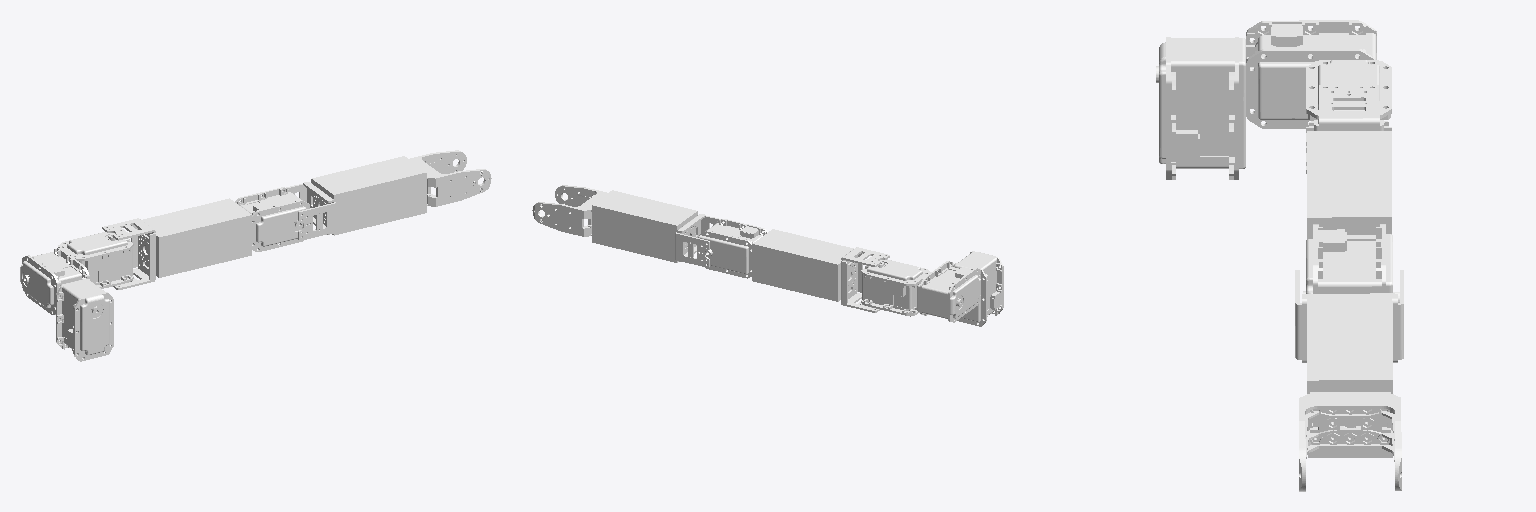
URDF robot description (manipulator):
<?xml version="1.0" encoding="utf-8"?>
<!-- =================================================================================== -->
<!-- |    This document was autogenerated by xacro from manipulator4_meshed_test.xacro | -->
<!-- |    EDITING THIS FILE BY HAND IS NOT RECOMMENDED                                 | -->
<!-- =================================================================================== -->
<robot name="manipulator">
  <!--0.5624 height to start-->
  <material name="white">
    <color rgba="1 1 1 1"/>
  </material>
  <!-- MACROS -->
  <!-- LINKS -->
  <!-- the trans parameter present here is to toggle distance of current object with respect to previous adjacent object i.e. its parent-->
  <!-- <link name="base_link">
    <xacro:LinkInertial trans="0 0 0.5624" rpy="0 0 0" />
    <xacro:LinkVisual trans="0 0 0.5624" rpy="0 0 0" />
    <xacro:LinkCollision trans="0 0 0.5624" rpy="0 0 0" />
  </link> -->
  <link name="shoulder_pitch_motor">
    <inertial>
      <origin rpy="0 0 0 " xyz="0 0 0"/>
      <mass value="0.140"/>
      <inertia ixx="0.000050799110" ixy="0.0" ixz="0.0" iyy="0.00002857215" iyz="0.00000051457" izz="0.000043394"/>
    </inertial>
    <visual>
      <origin rpy="0 0 0 " xyz="0 0 0"/>
      <geometry>
        <mesh filename="package://arm_imitation/meshes/mx-64.stl" scale="1 1 1"/>
      </geometry>
      <material name="white"/>
    </visual>
    <collision>
      <origin rpy="0 0 0" xyz="0 0 0"/>
      <geometry>
        <mesh filename="package://arm_imitation/meshes/mx-64.stl" scale="1 1 1"/>
      </geometry>
    </collision>
  </link>
  <link name="shoulder_roll_motor">
    <inertial>
      <origin rpy="0 0 0 " xyz="0 0 0.0481"/>
      <mass value="0.140"/>
      <inertia ixx="0.000050799110" ixy="0.0" ixz="0.0" iyy="0.00002857215" iyz="0.00000051457" izz="0.000043394"/>
    </inertial>
    <visual>
      <origin rpy="0 0 0 " xyz="0 0 0.0481"/>
      <geometry>
        <mesh filename="package://arm_imitation/meshes/mx-64.stl" scale="1 1 1"/>
      </geometry>
      <material name="white"/>
    </visual>
    <collision>
      <origin rpy="0 0 0" xyz="0 0 0.0481"/>
      <geometry>
        <mesh filename="package://arm_imitation/meshes/mx-64.stl" scale="1 1 1"/>
      </geometry>
    </collision>
  </link>
  <link name="shoulder_yaw_motor">
    <inertial>
      <origin rpy="0 0 0" xyz="0 0 0"/>
      <mass value="0.140"/>
      <inertia ixx="0.000050799110" ixy="0.0" ixz="0.0" iyy="0.00002857215" iyz="0.00000051457" izz="0.000043394"/>
    </inertial>
    <visual>
      <origin rpy="0.0 0.0 0" xyz="0 0 0"/>
      <geometry>
        <mesh filename="package://arm_imitation/meshes/mx-64.stl" scale="1 1 1"/>
      </geometry>
      <material name="white"/>
    </visual>
    <collision>
      <origin rpy="0 0 0" xyz="0 0 0"/>
      <geometry>
        <mesh filename="package://arm_imitation/meshes/mx-64.stl" scale="1 1 1"/>
      </geometry>
    </collision>
  </link>
  <link name="link_1">
    <inertial>
      <origin rpy="0 0 0" xyz="0 0 0"/>
      <mass value="0.265"/>
      <inertia ixx="0.000050799110" ixy="0.0" ixz="0.0" iyy="0.00002857215" iyz="0.00000051457" izz="0.000043394"/>
    </inertial>
    <visual>
      <origin rpy="0.0 0.0 0" xyz="0 0 0"/>
      <geometry>
        <mesh filename="package://arm_imitation/meshes/link1.stl" scale="1 1 1"/>
      </geometry>
      <material name="white"/>
    </visual>
    <collision>
      <origin rpy="0 0 0" xyz="0 0 0"/>
      <geometry>
        <mesh filename="package://arm_imitation/meshes/link1.stl" scale="1 1 1"/>
      </geometry>
    </collision>
  </link>
  <link name="link_2">
    <inertial>
      <origin rpy="0 0 0" xyz="0 0 0"/>
      <mass value="0.265"/>
      <inertia ixx="0.000050799110" ixy="0.0" ixz="0.0" iyy="0.00002857215" iyz="0.00000051457" izz="0.000043394"/>
    </inertial>
    <visual>
      <origin rpy="0.0 0.0 0" xyz="0 0 0"/>
      <geometry>
        <mesh filename="package://arm_imitation/meshes/link2.stl" scale="1 1 1"/>
      </geometry>
      <material name="white"/>
    </visual>
    <collision>
      <origin rpy="0 0 0" xyz="0 0 0"/>
      <geometry>
        <mesh filename="package://arm_imitation/meshes/link2.stl" scale="1 1 1"/>
      </geometry>
    </collision>
  </link>
  <joint name="shoulder_pitch" type="revolute">
    <origin rpy="-1.57 -1.57 0" xyz="0 0.0205 0"/>
    <parent link="shoulder_pitch_motor"/>
    <child link="shoulder_roll_motor"/>
    <axis xyz="0 0 1"/>
    <limit effort="30" lower="-3.14" upper="3.14" velocity="1.0"/>
  </joint>
  <joint name="shoulder_roll" type="revolute">
    <origin rpy="1.57 1.57 3.14" xyz="0 0.0686 0.0481"/>
    <parent link="shoulder_roll_motor"/>
    <child link="shoulder_yaw_motor"/>
    <axis xyz="0 0 -1"/>
    <limit effort="30" lower="-3.14" upper="3.14" velocity="1.0"/>
  </joint>
  <joint name="shoulder_yaw" type="revolute">
    <origin rpy="1.57 3.14 -1.57" xyz="0 0 0"/>
    <parent link="shoulder_yaw_motor"/>
    <child link="link_1"/>
    <axis xyz="-1 0 0"/>
    <limit effort="30" lower="-1.57" upper="1.57" velocity="1.0"/>
  </joint>
  <joint name="elbow_pitch" type="revolute">
    <origin rpy="0 0 0" xyz="0 -0.1801 0"/>
    <parent link="link_1"/>
    <child link="link_2"/>
    <axis xyz="0 0 1"/>
    <limit effort="30" lower="-1.57" upper="1.57" velocity="1.0"/>
  </joint>
  <!-- <xacro:RevJoint id="shoulder_yaw" trans="0 ${MXLengthAxisLong} 0" rpy="-1.57 1.57 1.57" parent="shoulder_pitch_motor" child="link_1" axis="-1 0 0" l="-1.57" u="1.57" v="1.0"/> -->
  <!-- <xacro:RevJoint id="elbow_pitch" trans="0 -${MXBracketLength + LinkLength + MXLengthAxisLong} 0" rpy="0 0 0" parent="link_1" child="link_2" axis="0 0 1" l="-1.57" u="1.57" v="1.0"/> -->
  <!-- axis="1 0 0" l="-1.57" u="1.57" v="1.0" -->
  <!-- <xacro:FxdJoint id="biceps_start" trans="0 0 ${MXBracketLength}" rpy="0 0 3.14" parent="shoulder_bracket" child="biscep"/>
  <xacro:FxdJoint id="biceps_end" trans="0 0 ${LinkLength}" rpy="1.57 0 1.57" parent="biscep" child="elbow_motor"/>
  <xacro:RevJoint id="elbow_pitch" trans="0 ${MXLengthAxisLong} 0" rpy="0 1.57 1.57" parent="elbow_motor" child="elbow_bracket" axis="1 0 0" l="-1.57" u="1.57" v="1.0"/>
  <xacro:FxdJoint id="forearm_start" trans="0 0 ${MXBracketLength}" rpy="0 0 3.14" parent="elbow_bracket" child="forearm"/>
  <xacro:FxdJoint id="forearm_end" trans="0 0 ${LinkLength}" rpy="1.57 0 1.57" parent="forearm" child="wrist_bracket"/> -->
</robot>

--- What the picture shows (computed from the rendered views, not written in the file) ---
The picture shows the robot from 3 angles, left to right: view 1: azimuth 30°, elevation 25°; view 2: azimuth 150°, elevation 25°; view 3: azimuth 270°, elevation 25°; orthographic projection.
Robot: manipulator — 5 links, 4 joints (4 revolute); root link shoulder_pitch_motor; default pose: all joints at 0.
Visible links, largest first — view 1: link_1, link_2, shoulder_pitch_motor, shoulder_yaw_motor, shoulder_roll_motor; view 2: link_1, link_2, shoulder_roll_motor, shoulder_yaw_motor, shoulder_pitch_motor; view 3: link_2, link_1, shoulder_pitch_motor, shoulder_roll_motor, shoulder_yaw_motor.
Link boxes in pixels (bbox=[...]): link_1: bbox=[102, 187, 309, 289]; link_2: bbox=[282, 150, 491, 240]; shoulder_pitch_motor: bbox=[56, 278, 113, 361]; shoulder_yaw_motor: bbox=[58, 232, 133, 288]; shoulder_roll_motor: bbox=[20, 248, 89, 314]; link_1: bbox=[698, 219, 889, 312]; link_2: bbox=[532, 185, 720, 267]; shoulder_roll_motor: bbox=[917, 261, 980, 322]; shoulder_yaw_motor: bbox=[861, 259, 930, 316]; shoulder_pitch_motor: bbox=[953, 251, 1003, 326]; link_2: bbox=[1295, 270, 1403, 491]; link_1: bbox=[1303, 85, 1399, 302]; shoulder_pitch_motor: bbox=[1156, 37, 1253, 179]; shoulder_roll_motor: bbox=[1246, 20, 1376, 128]; shoulder_yaw_motor: bbox=[1306, 60, 1391, 173].
Bounding box of the posed robot: 0.4677 × 0.1165 × 0.0736 m (x, y, z).
Meshes: 3 distinct files referenced, 5 mesh visuals loaded (3 binary STL).